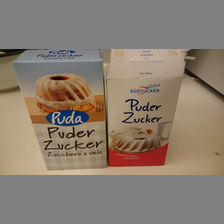tomato_sauce: (11, 50, 107, 171), (106, 62, 183, 168)
